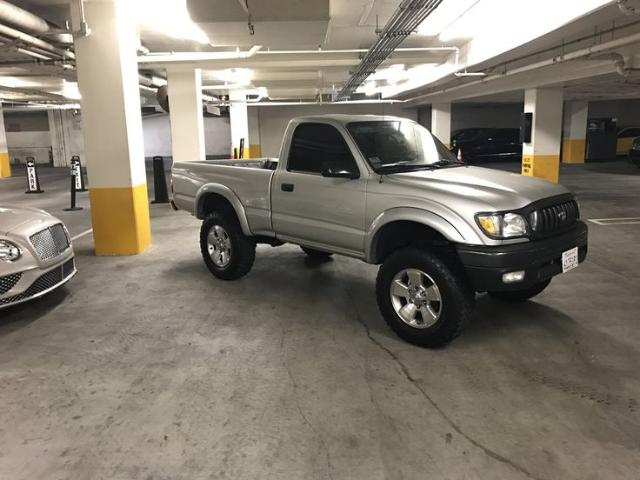pickup-truck: (167, 113, 589, 348)
